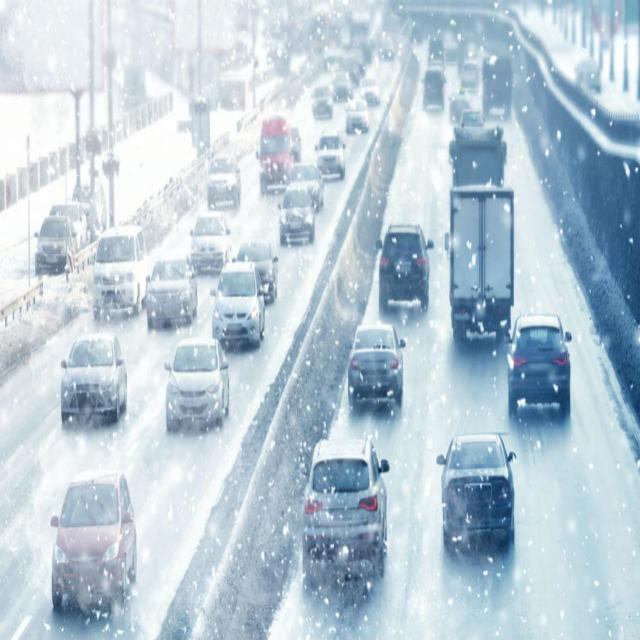bus: (448, 181, 515, 344), (450, 132, 508, 184), (481, 52, 513, 119), (351, 16, 373, 58)
car: (49, 470, 137, 619), (305, 442, 389, 596), (439, 432, 517, 560), (505, 312, 571, 422), (58, 332, 128, 429), (165, 336, 229, 434), (89, 225, 148, 317), (213, 260, 265, 350), (349, 328, 403, 406), (145, 254, 195, 335), (382, 226, 428, 308), (235, 240, 279, 306), (190, 213, 232, 274), (256, 120, 294, 183), (277, 188, 317, 246), (206, 155, 242, 217), (36, 215, 70, 273), (288, 162, 324, 209), (314, 134, 346, 180), (56, 199, 86, 243), (75, 182, 105, 224), (574, 54, 602, 93), (346, 96, 368, 131), (311, 82, 333, 114), (423, 74, 445, 106), (460, 59, 480, 90), (461, 105, 484, 128), (377, 32, 395, 61), (359, 78, 379, 102), (449, 90, 469, 114), (290, 125, 302, 164), (332, 75, 350, 97)
